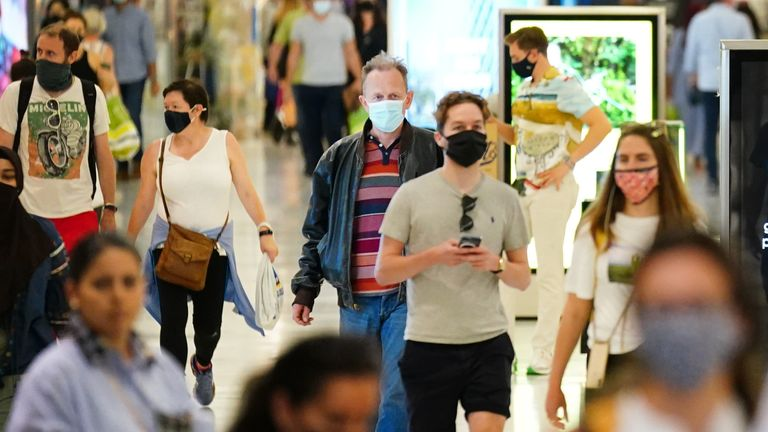with_mask: (614, 134, 661, 205), (448, 112, 485, 168), (363, 84, 405, 129), (36, 40, 70, 86), (511, 43, 541, 82), (165, 93, 194, 132)
